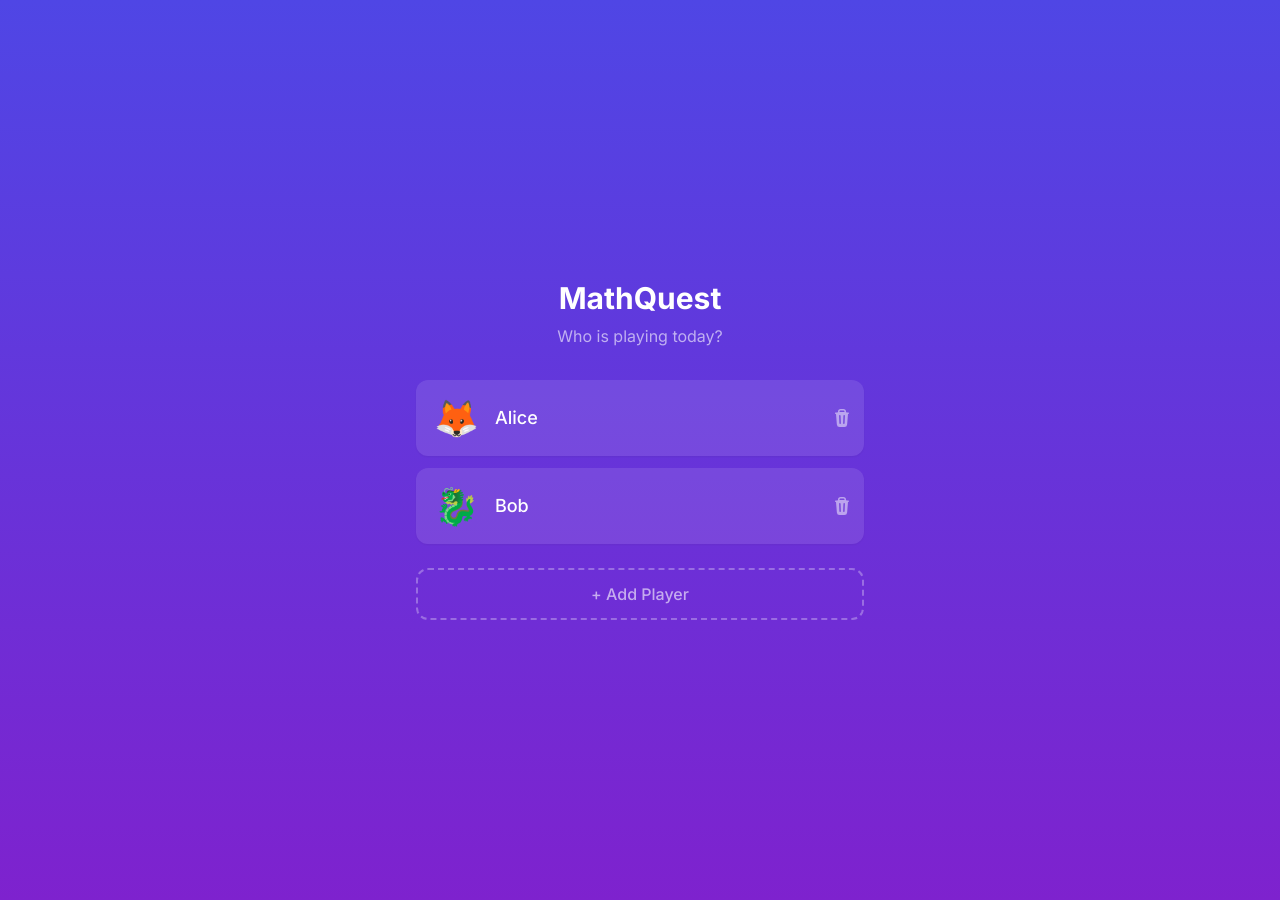
ProfilePicker › existing profiles state › should cancel delete on cancel click
Click the button named "Delete Alice" at (842, 418), box [832,408,852,428]
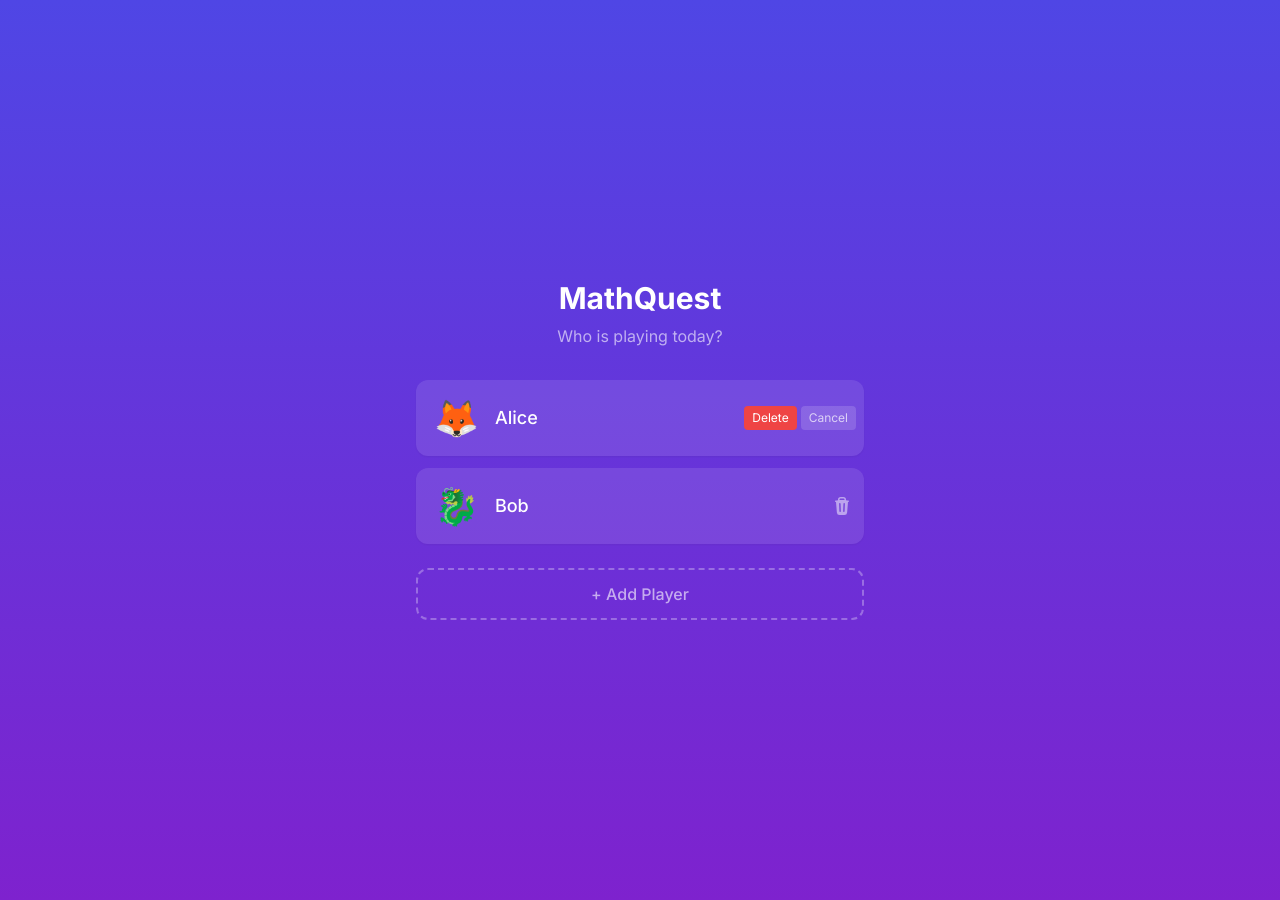
Click the button with aria-label "Cancel delete" at (828, 418), box [801,406,856,430]
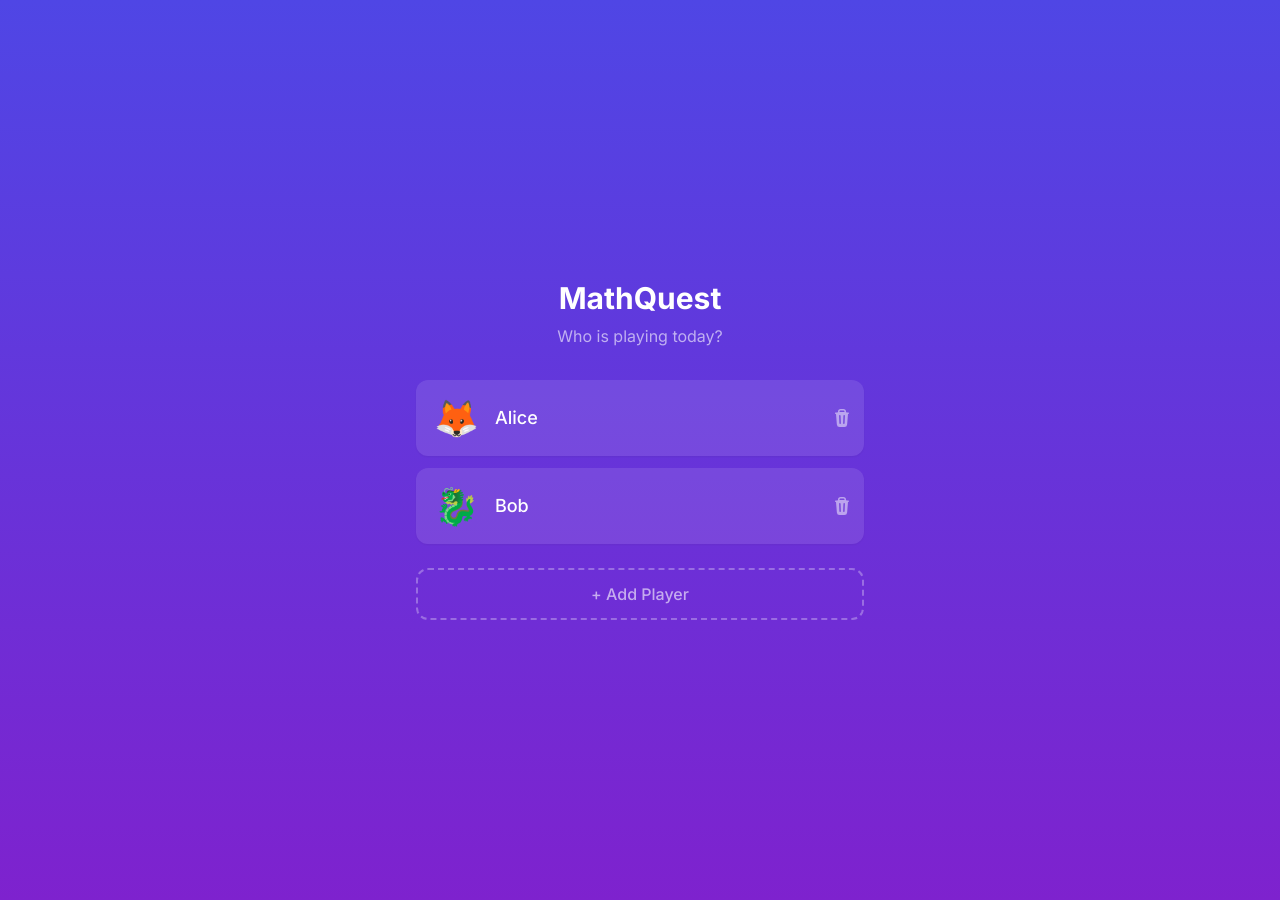
Result: the button named "Delete Alice" is shown at [832,408,852,428]
